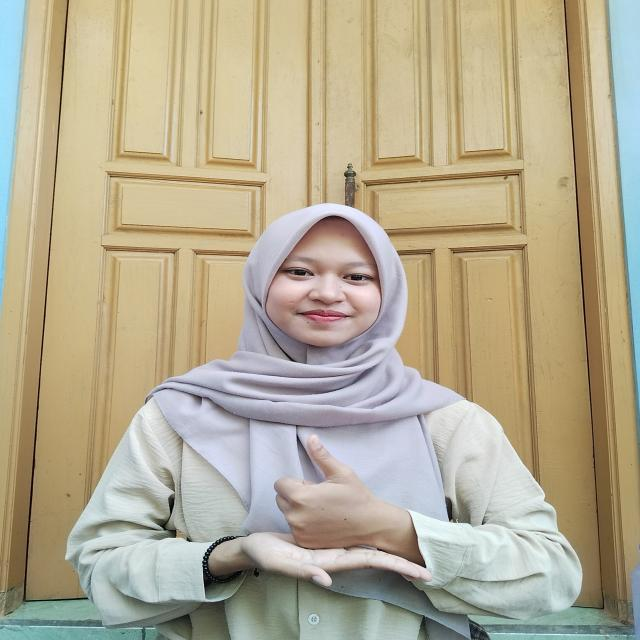cantik: (210, 421, 424, 592)
